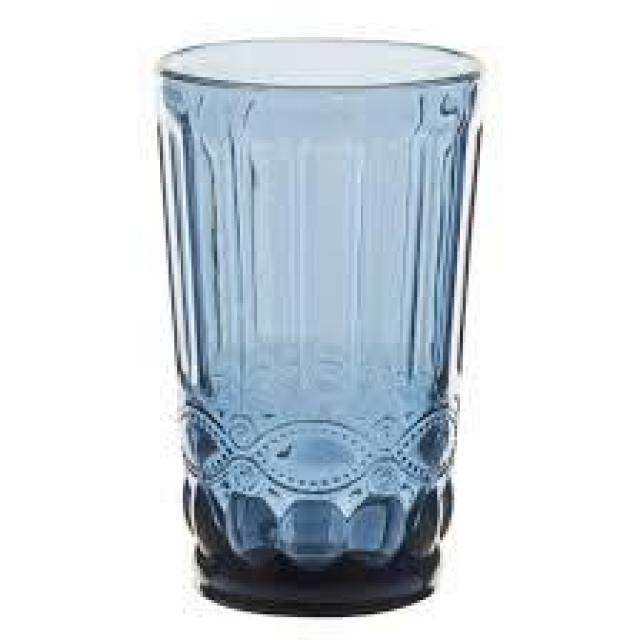non-organic waste: (150, 32, 487, 617)
